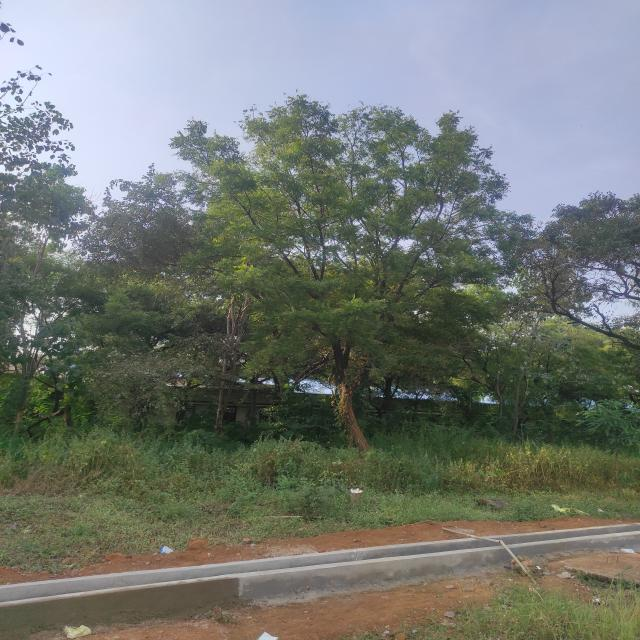Devakanchan tree: (524, 189, 640, 364)
Neem Tree: (213, 109, 481, 418)
